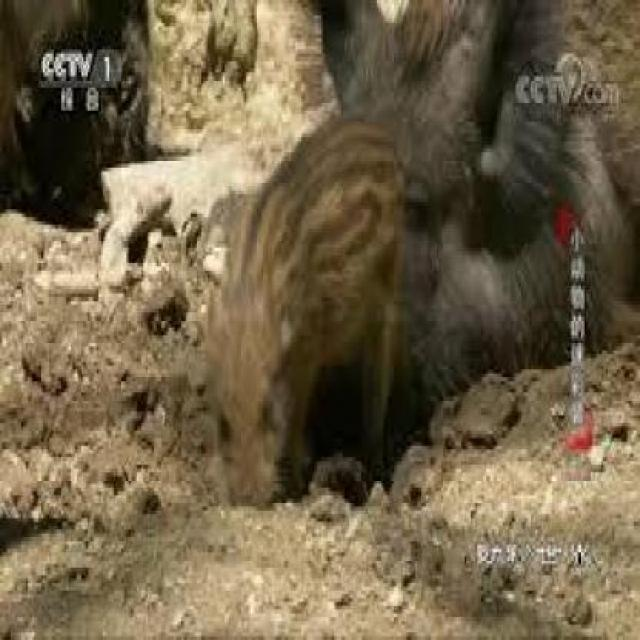wildboar: (307, 0, 640, 400), (198, 97, 432, 532)
